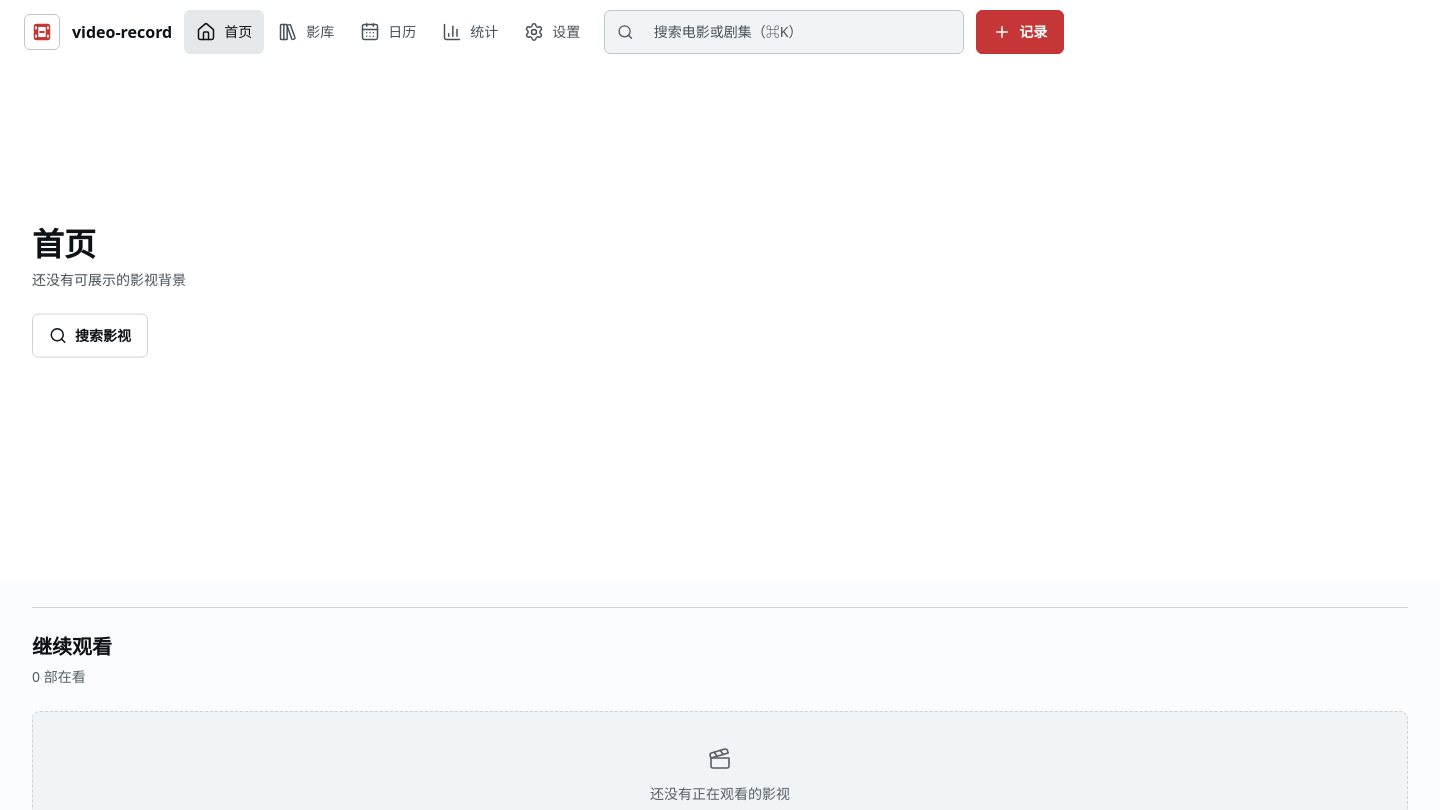
Scenario: App › places the brand, primary navigation, search, and record action in the application banner
Expected: the link with aria-label "video-record 首页" is shown, [24,10,172,54]
Expected: the navigation bar named "主导航" is shown, [184,10,592,54]
Click the button "记录": coordinates (1020, 32) [976,10,1064,54]
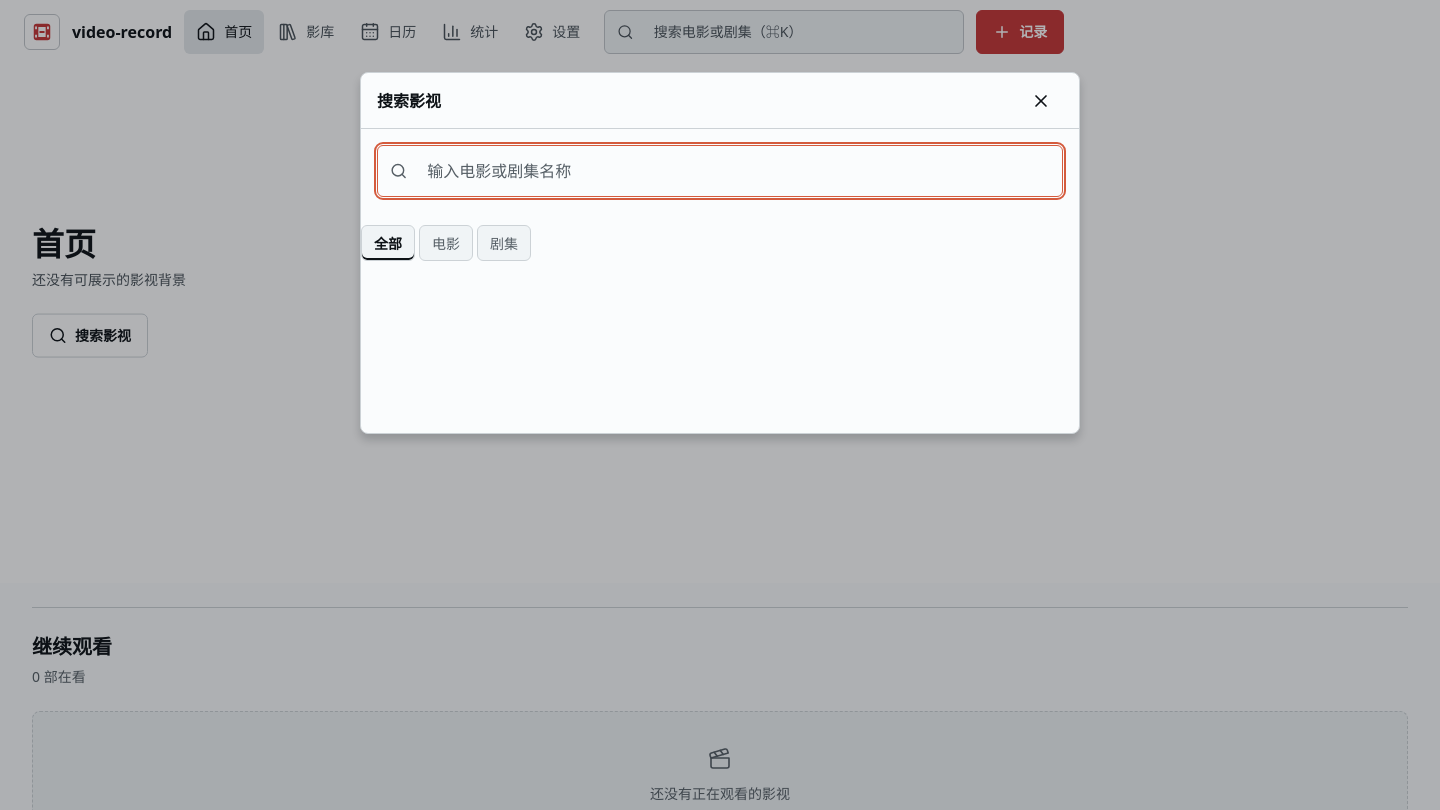
Result: the dialog "搜索影视" is shown at [360,72,1080,434]
